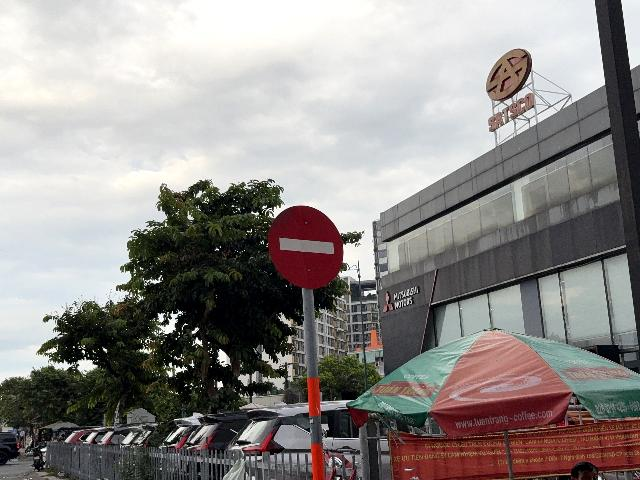cam-di-nguoc-chieu: (268, 205, 344, 290)
